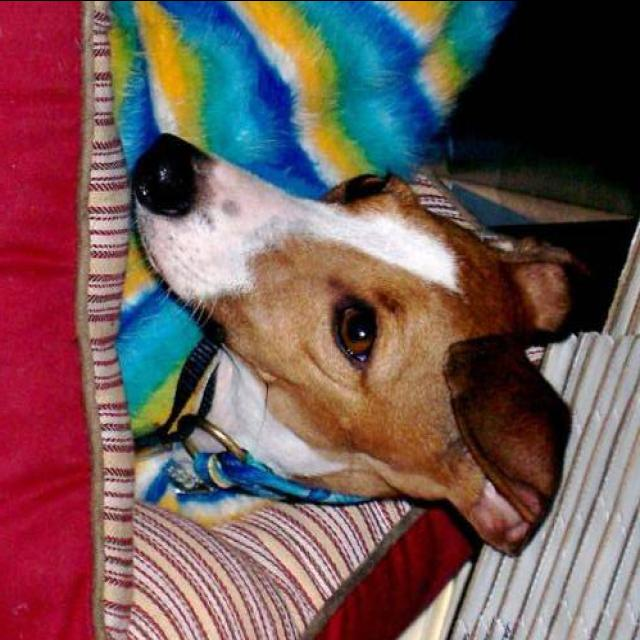dog: (82, 102, 612, 569)
